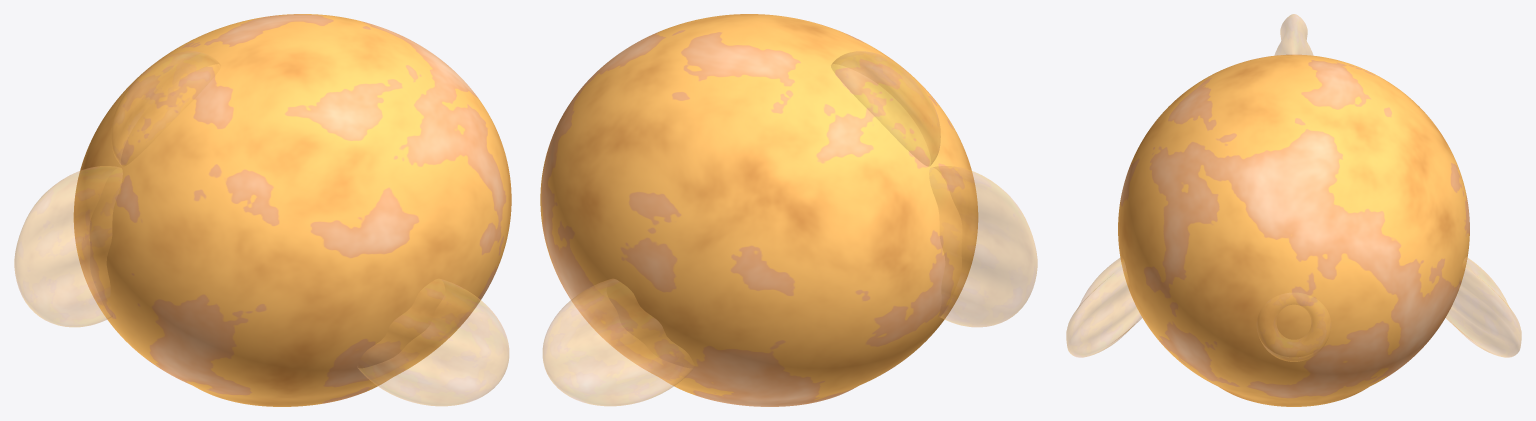
The model's file is pufferfish.glb.
The picture shows the model from 3 angles, left to right: view 1: azimuth 30°, elevation 25°; view 2: azimuth 150°, elevation 25°; view 3: azimuth 270°, elevation 25°; orthographic projection. The views are drawn at different scales.
Parts seen in each view (by area): view 1: Pufferfish_Body, Fin_Left, Fin_Tail, Fin_Dorsal; view 2: Pufferfish_Body, Fin_Right, Fin_Tail, Fin_Dorsal; view 3: Pufferfish_Body, Fin_Left, Fin_Right, Pufferfish_Mouth, Fin_Dorsal.
Part boxes in pixels (x1,y1,x2,y2): Pufferfish_Body: (73, 14, 511, 406); Fin_Left: (357, 279, 508, 405); Fin_Tail: (14, 166, 122, 326); Fin_Dorsal: (111, 51, 220, 166); Pufferfish_Body: (540, 14, 978, 406); Fin_Right: (543, 279, 694, 405); Fin_Tail: (929, 166, 1037, 326); Fin_Dorsal: (831, 51, 940, 166); Pufferfish_Body: (1118, 54, 1469, 406); Fin_Left: (1066, 257, 1141, 357); Fin_Right: (1446, 257, 1521, 357); Pufferfish_Mouth: (1257, 293, 1330, 361); Fin_Dorsal: (1275, 14, 1312, 55).
Size of what is drawn, in the model's own units: 2.66 by 1.83 by 2.48.
7 materials, 6 textured.
